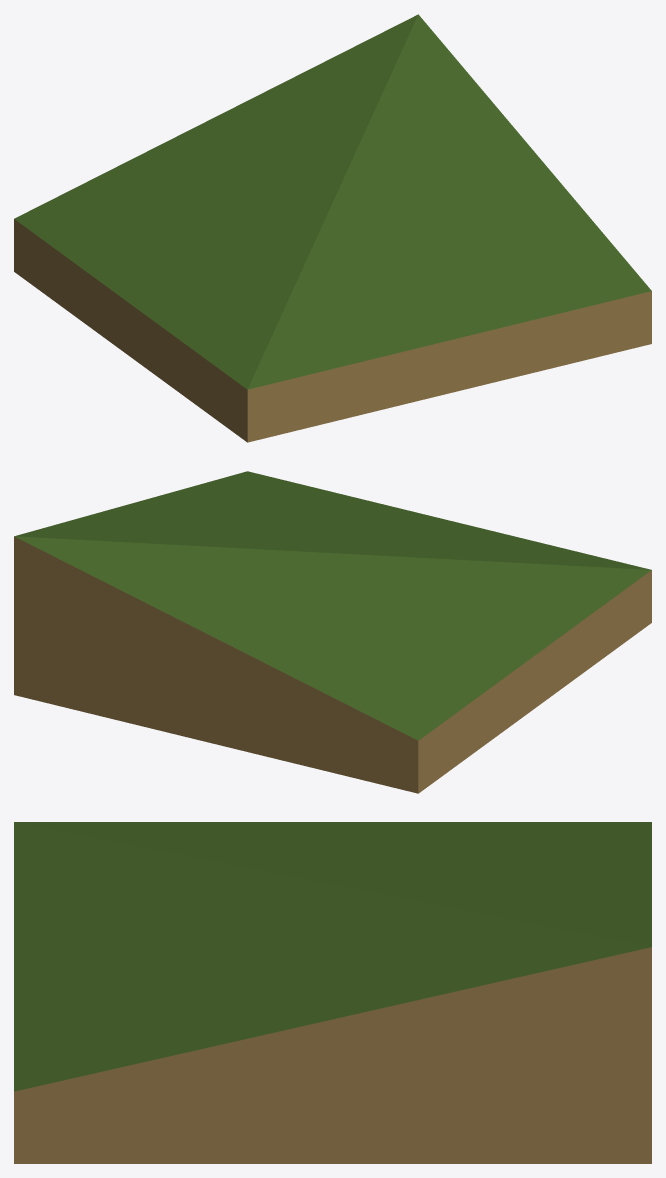
The model's file is Terrain_Tile_Grass_Dirt_Corner_Ramp_High_01.fbx.
3 renders of one model, top to bottom at view 1: azimuth 30°, elevation 25°; view 2: azimuth 150°, elevation 25°; view 3: azimuth 270°, elevation 25°, orthographic. The views are drawn at different scales.
Visible parts, largest first — view 1: Terrain_Tile_Grass_Dirt_Corner_Ramp_High_01; view 2: Terrain_Tile_Grass_Dirt_Corner_Ramp_High_01; view 3: Terrain_Tile_Grass_Dirt_Corner_Ramp_High_01.
Part boxes in pixels (bbox=[...]): Terrain_Tile_Grass_Dirt_Corner_Ramp_High_01: bbox=[14, 14, 651, 442]; Terrain_Tile_Grass_Dirt_Corner_Ramp_High_01: bbox=[14, 471, 651, 793]; Terrain_Tile_Grass_Dirt_Corner_Ramp_High_01: bbox=[14, 822, 651, 1163].
Size of the model in its own units: 126 by 47.24 by 126.
